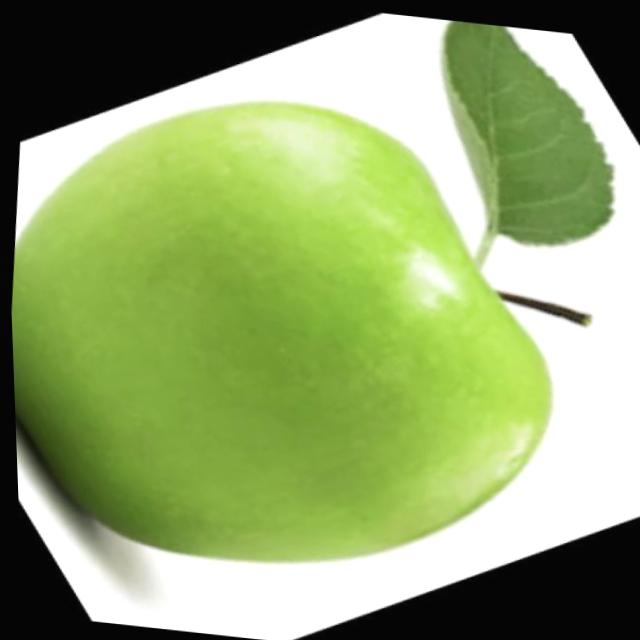Apple: (2, 70, 582, 594)
